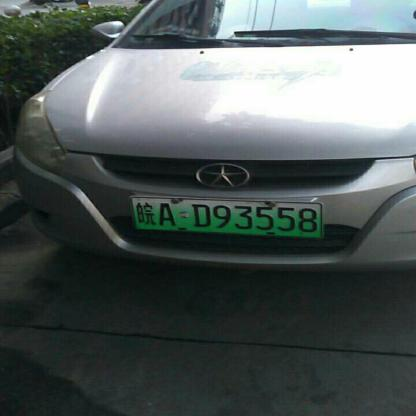lp: (131, 195, 322, 238)
